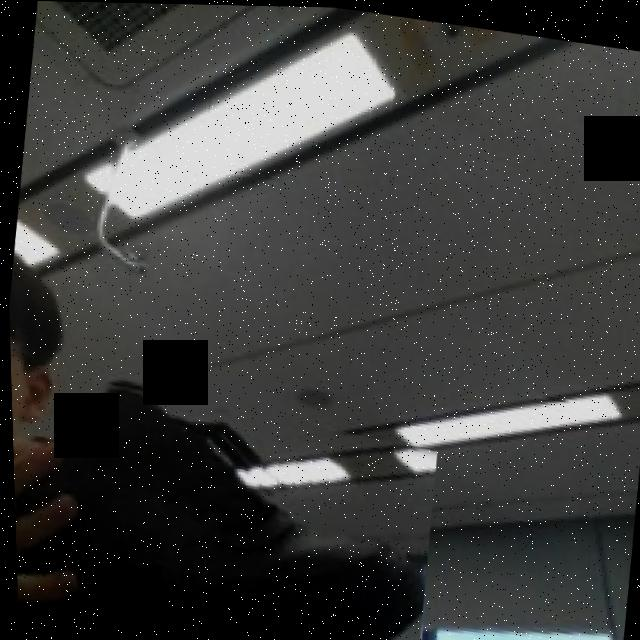shoe: (8, 362, 442, 640)
